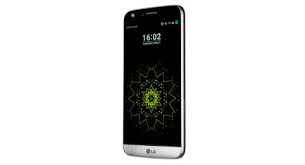lg: (117, 2, 189, 162)
